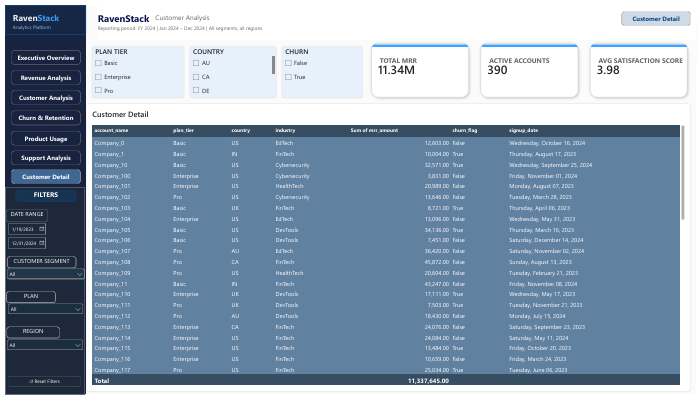

The dashboard page shown, as its layout file describes it:
{"tool":"powerbi","page":{"name":"Customer Detail","canvas":[1920,1080],"ordinal":6},"visuals":[{"type":"shape","box":[1008,96,288,168],"z":0,"group":"g5"},{"type":"shape","box":[1312,96,288,168],"z":0,"group":"g6"},{"type":"shape","box":[1616,96,288,168],"z":0,"group":"g7"},{"type":"slicer","fields":{"Values":["public accounts.industry"]},"box":[0,726,224,48],"z":0,"group":"g13"},{"type":"slicer","fields":{"Values":["public accounts.plan_tier"]},"box":[3,823,216,48],"z":0,"group":"g14"},{"type":"slicer","fields":{"Values":["public accounts.country"]},"box":[0,923,219,48],"z":0,"group":"g15"},{"type":"shape","box":[0,-8,224,1088],"z":1000},{"type":"textbox","box":[4,697,192,32],"z":1000,"group":"g13"},{"type":"textbox","box":[2,794,137,32],"z":1000,"group":"g14"},{"type":"textbox","box":[3,892,147,32],"z":1000,"group":"g15"},{"type":"textbox","box":[0,32,224,48],"z":2000},{"type":"actionButton","box":[16,124,192,40],"z":3000,"group":"g16"},{"type":"actionButton","box":[16,180,192,40],"z":4000,"group":"g16"},{"type":"actionButton","box":[16,235,192,40],"z":5000,"group":"g16"},{"type":"group","id":"g1","title":"Group 4","box":[1616,96,288,160],"z":6000},{"type":"actionButton","box":[16,292,192,40],"z":7000,"group":"g16"},{"type":"actionButton","box":[16,348,192,40],"z":8000,"group":"g16"},{"type":"actionButton","box":[16,403,192,40],"z":9000,"group":"g16"},{"type":"actionButton","box":[16,455,192,40],"z":10000,"group":"g16"},{"type":"shape","box":[256,0,1664,96],"z":11000},{"type":"textbox","box":[256,16,144,64],"z":12000},{"type":"textbox","box":[416,21,240,48],"z":13000},{"type":"textbox","box":[256,54,784,32],"z":14000},{"type":"cardVisual","fields":{"Data":["public subscriptions.Total MRR"]},"box":[1019.5,107.6,266.1,134.4],"z":14001,"group":"g5"},{"type":"cardVisual","fields":{"Data":["public accounts.Active Accounts"]},"box":[1323.5,107.6,266.1,134.4],"z":14001,"group":"g6"},{"type":"cardVisual","fields":{"Data":["DimDate._CF Avg Satisfaction Score"]},"box":[1627.5,107.6,266.1,134.4],"z":14001,"group":"g7"},{"type":"group","id":"g2","title":"Group 2","box":[1008,96,288,168],"z":14011,"group":"g9"},{"type":"group","id":"g3","title":"Group 2","box":[1312,96,288,168],"z":14011,"group":"g10"},{"type":"group","id":"g4","title":"Group 2","box":[1616,96,288,168],"z":14011,"group":"g11"},{"type":"group","id":"g5","title":"Group 3","box":[1008,96,288,168],"z":14012,"group":"g2"},{"type":"group","id":"g6","title":"Group 3","box":[1312,96,288,168],"z":14012,"group":"g3"},{"type":"group","id":"g7","title":"Group 3","box":[1616,96,288,168],"z":14012,"group":"g4"},{"type":"slicer","fields":{"Values":["public accounts.plan_tier"]},"box":[240,112,256,144],"z":15000},{"type":"slicer","fields":{"Values":["public accounts.country"]},"box":[512,112,240,144],"z":16000},{"type":"slicer","fields":{"Values":["public accounts.churn_flag"]},"box":[768,112,224,144],"z":17000},{"type":"tableEx","title":"Customer Detail","fields":{"Values":["public accounts.account_name","public accounts.plan_tier","public accounts.country","public accounts.industry","Sum(public subscriptions.mrr_amount)","public accounts.churn_flag","public accounts.signup_date"]},"box":[224,272,1680,800],"z":18000},{"type":"group","id":"g8","title":"Group 4","box":[1008,96,288,160],"z":19000},{"type":"group","id":"g9","title":"Group 1","box":[1008,96,288,168],"z":19000,"group":"g8"},{"type":"group","id":"g10","title":"Group 1","box":[1312,96,288,168],"z":19000,"group":"g12"},{"type":"group","id":"g11","title":"Group 1","box":[1616,96,288,168],"z":19000,"group":"g1"},{"type":"group","id":"g12","title":"Group 4","box":[1312,96,288,160],"z":20000},{"type":"shape","box":[0,504,220,576],"z":21000,"group":"g16"},{"type":"textbox","box":[28,512,168,32],"z":22000,"group":"g16"},{"type":"slicer","fields":{"Values":["DimDate.Date"]},"box":[0,600,222,77],"z":23000,"group":"g16"},{"type":"textbox","box":[3,567,113,32],"z":24000,"group":"g16"},{"type":"group","id":"g13","title":"Group 5","box":[0,697,224,77],"z":25000,"group":"g16"},{"type":"group","id":"g14","title":"Group 5","box":[2,794,217,77],"z":26000,"group":"g16"},{"type":"textbox","box":[1040,138,256,48],"z":27000,"group":"g8"},{"type":"textbox","box":[1344,138,256,48],"z":27000,"group":"g12"},{"type":"textbox","box":[1648,138,256,48],"z":27000,"group":"g1"},{"type":"group","id":"g15","title":"Group 5","box":[0,892,219,79],"z":27000,"group":"g16"},{"type":"actionButton","box":[0,1020,217,48],"z":28000,"group":"g16"},{"type":"textbox","box":[0,0,224,64],"z":29000},{"type":"shape","box":[0,0,224,80],"z":30000},{"type":"group","id":"g16","title":"Group 6","box":[0,124,224,956],"z":30001},{"type":"actionButton","box":[1712,16,192,40],"z":30002}]}

Visuals, with their boxes on the page's 1920x1080 design canvas (x1, y1, x2, y2). These are canvas units, not pixel positions in the 700x401 screenshot, which may show the page scaled, cropped or inside an application window:
shape: detection(1008, 96, 1296, 264)
shape: detection(1312, 96, 1600, 264)
shape: detection(1616, 96, 1904, 264)
slicer - public accounts.industry: detection(0, 726, 224, 774)
slicer - public accounts.plan_tier: detection(3, 823, 219, 871)
slicer - public accounts.country: detection(0, 923, 219, 971)
shape: detection(0, -8, 224, 1080)
textbox: detection(4, 697, 196, 729)
textbox: detection(2, 794, 139, 826)
textbox: detection(3, 892, 150, 924)
textbox: detection(0, 32, 224, 80)
actionButton: detection(16, 124, 208, 164)
actionButton: detection(16, 180, 208, 220)
actionButton: detection(16, 235, 208, 275)
"Group 4" group: detection(1616, 96, 1904, 256)
actionButton: detection(16, 292, 208, 332)
actionButton: detection(16, 348, 208, 388)
actionButton: detection(16, 403, 208, 443)
actionButton: detection(16, 455, 208, 495)
shape: detection(256, 0, 1920, 96)
textbox: detection(256, 16, 400, 80)
textbox: detection(416, 21, 656, 69)
textbox: detection(256, 54, 1040, 86)
cardVisual - public subscriptions.Total MRR: detection(1020, 108, 1286, 242)
cardVisual - public accounts.Active Accounts: detection(1324, 108, 1590, 242)
cardVisual - DimDate._CF Avg Satisfaction Score: detection(1628, 108, 1894, 242)
"Group 2" group: detection(1008, 96, 1296, 264)
"Group 2" group: detection(1312, 96, 1600, 264)
"Group 2" group: detection(1616, 96, 1904, 264)
"Group 3" group: detection(1008, 96, 1296, 264)
"Group 3" group: detection(1312, 96, 1600, 264)
"Group 3" group: detection(1616, 96, 1904, 264)
slicer - public accounts.plan_tier: detection(240, 112, 496, 256)
slicer - public accounts.country: detection(512, 112, 752, 256)
slicer - public accounts.churn_flag: detection(768, 112, 992, 256)
"Customer Detail" tableEx: detection(224, 272, 1904, 1072)
"Group 4" group: detection(1008, 96, 1296, 256)
"Group 1" group: detection(1008, 96, 1296, 264)
"Group 1" group: detection(1312, 96, 1600, 264)
"Group 1" group: detection(1616, 96, 1904, 264)
"Group 4" group: detection(1312, 96, 1600, 256)
shape: detection(0, 504, 220, 1080)
textbox: detection(28, 512, 196, 544)
slicer - DimDate.Date: detection(0, 600, 222, 677)
textbox: detection(3, 567, 116, 599)
"Group 5" group: detection(0, 697, 224, 774)
"Group 5" group: detection(2, 794, 219, 871)
textbox: detection(1040, 138, 1296, 186)
textbox: detection(1344, 138, 1600, 186)
textbox: detection(1648, 138, 1904, 186)
"Group 5" group: detection(0, 892, 219, 971)
actionButton: detection(0, 1020, 217, 1068)
textbox: detection(0, 0, 224, 64)
shape: detection(0, 0, 224, 80)
"Group 6" group: detection(0, 124, 224, 1080)
actionButton: detection(1712, 16, 1904, 56)
